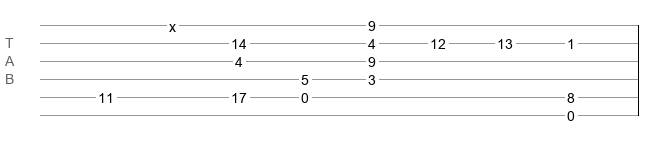0: (301, 90, 309, 100), (567, 108, 575, 118)
1: (567, 36, 575, 46)
11: (98, 90, 114, 100)
12: (430, 36, 446, 46)
13: (497, 36, 513, 46)
14: (231, 36, 247, 46)
17: (231, 90, 247, 100)
3: (368, 72, 376, 82)
4: (235, 54, 243, 64), (368, 36, 376, 46)
5: (301, 72, 309, 82)
8: (567, 90, 575, 100)
9: (368, 54, 376, 64), (368, 18, 376, 28)
x: (169, 19, 176, 27)
